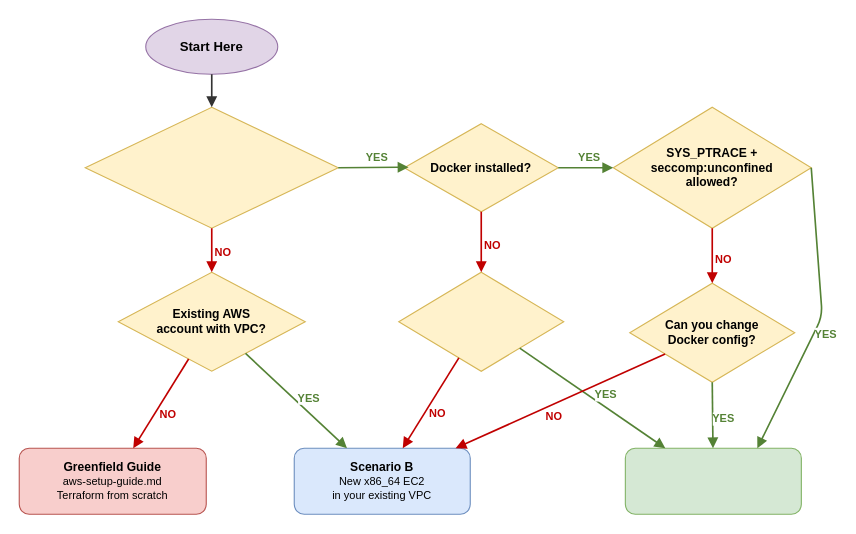
This 856x534 diagram has some shape labels left out. The centre of each missing label's shape, as x and y in pixels:
Can you install Docker?: pixel 481 321
Do you have an existing x86_64 Linux server? (any provider): pixel 211 167
Scenario A Reuse Existing EC2 Clone repo, build image: pixel 712 480
